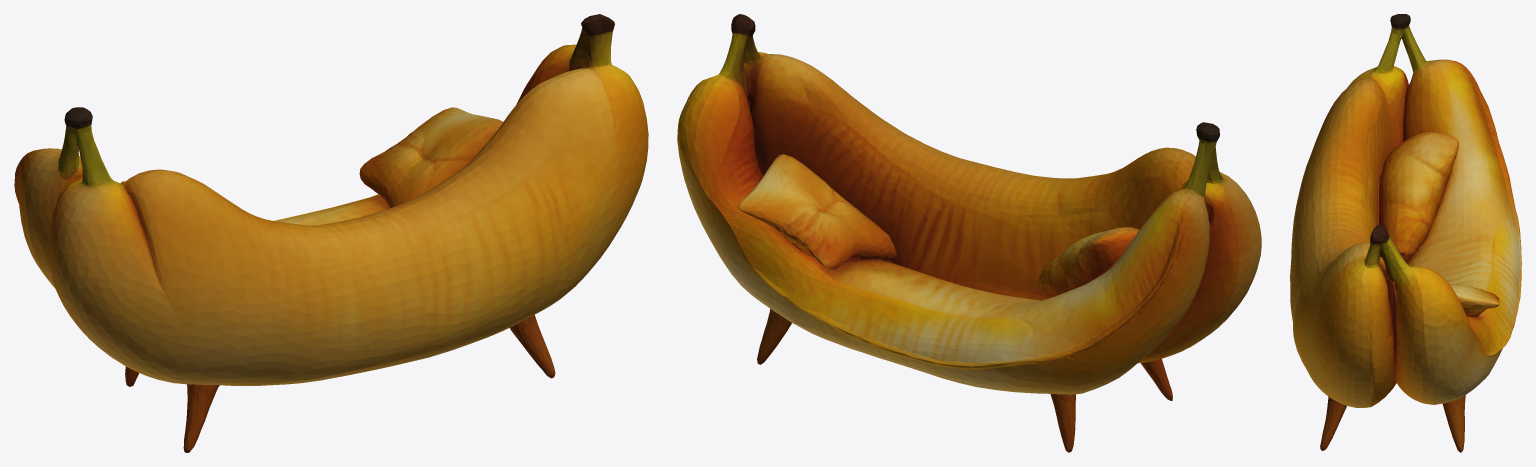
File: sofa.glb
3 renders of one model, left to right at view 1: azimuth 30°, elevation 25°; view 2: azimuth 150°, elevation 25°; view 3: azimuth 270°, elevation 25°, orthographic. The views are drawn at different scales.
Visible parts, largest first — view 1: world; view 2: world; view 3: world.
Part boxes in pixels (left/top/right/bottom): world: left=14, top=14, right=648, bottom=452; world: left=677, top=14, right=1261, bottom=452; world: left=1290, top=14, right=1521, bottom=452.
Bounding box in the file's own units: 0.9977 × 0.5572 × 0.4329.
Materials: 1 (1 with a texture image).
